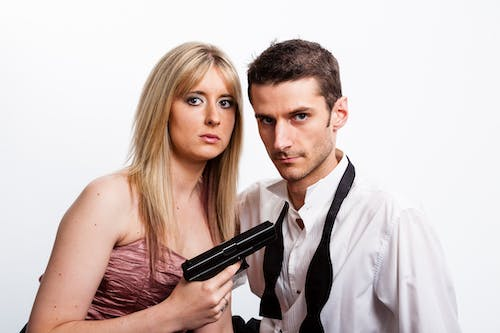gun: (179, 218, 279, 283)
